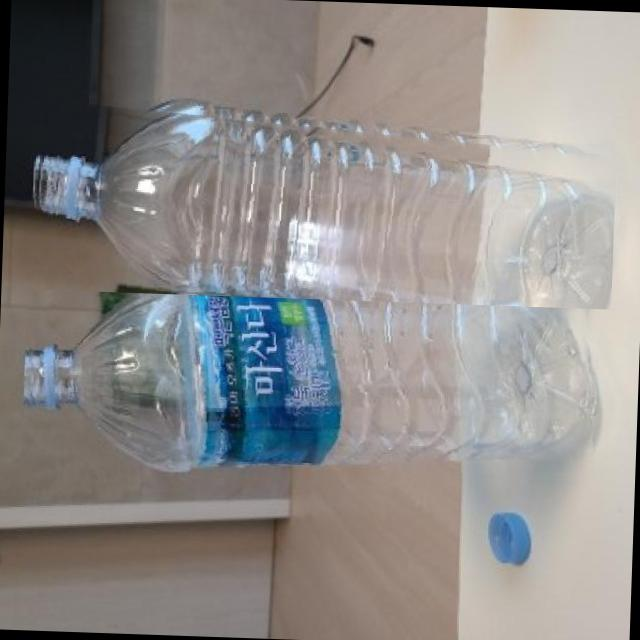plastic bottle: (21, 270, 602, 488), (27, 98, 617, 308)
